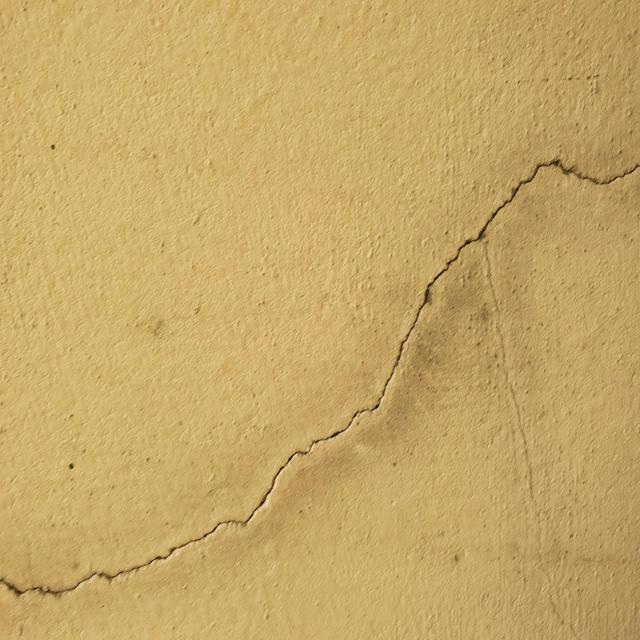SurfaceCrack: (1, 36, 640, 637)
